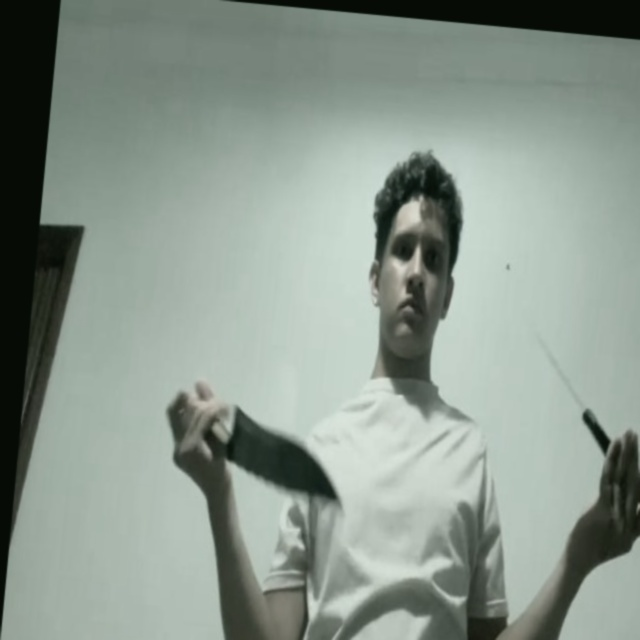Sharp-Object: (227, 402, 346, 499)
